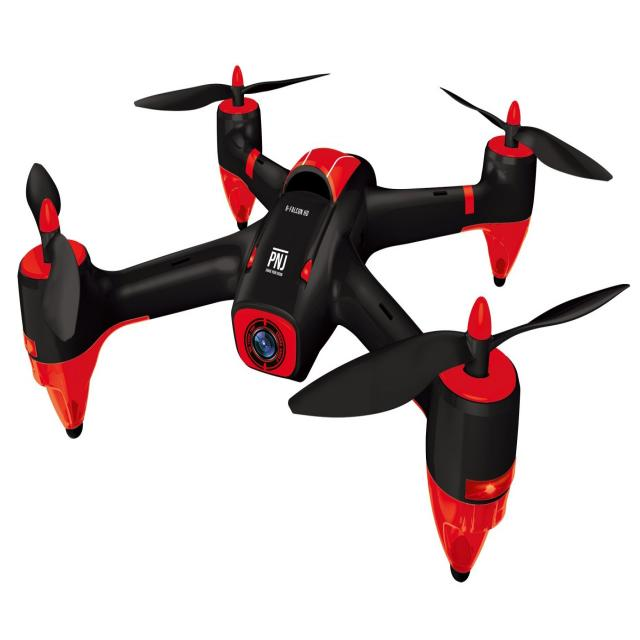drone: (15, 54, 640, 621)
